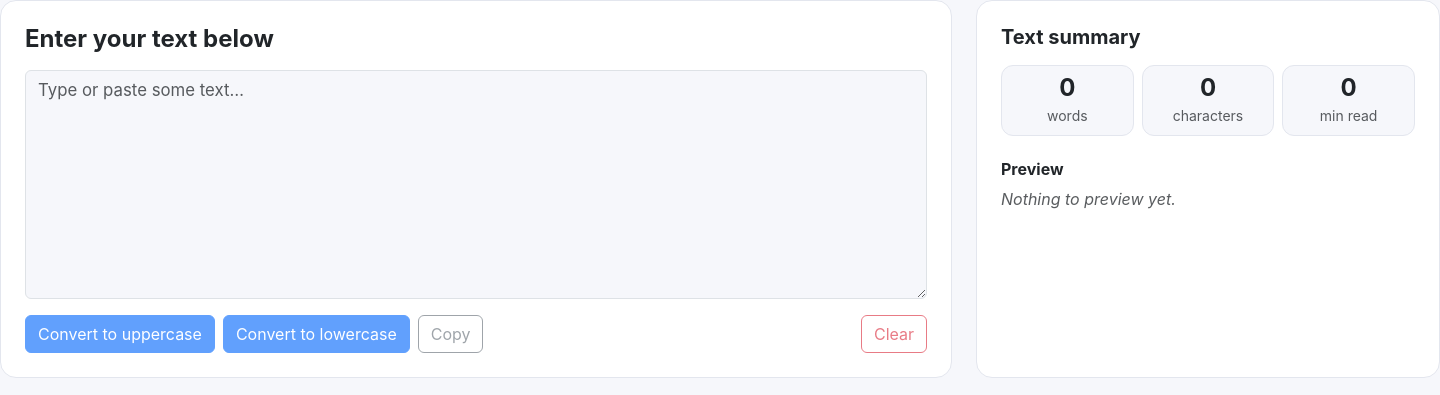
Test: transformations › clears the text
This screenshot has width=1440, height=395.
Type "something" into the text box labelled "Enter your text below". click: (476, 184)
box: [25,70,927,299]
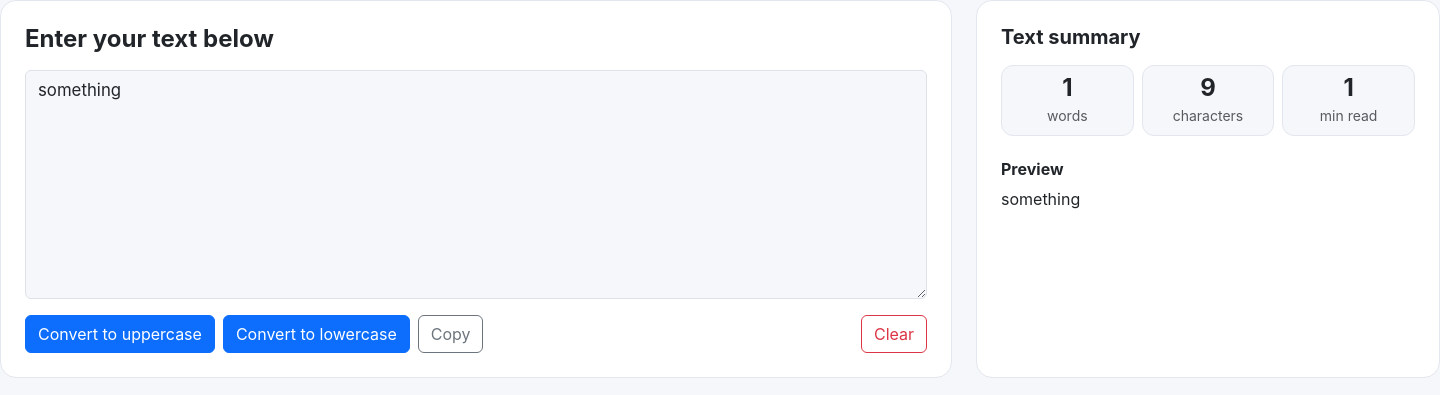
Click the button "Clear". click: (894, 334)
box: [861,315,927,353]
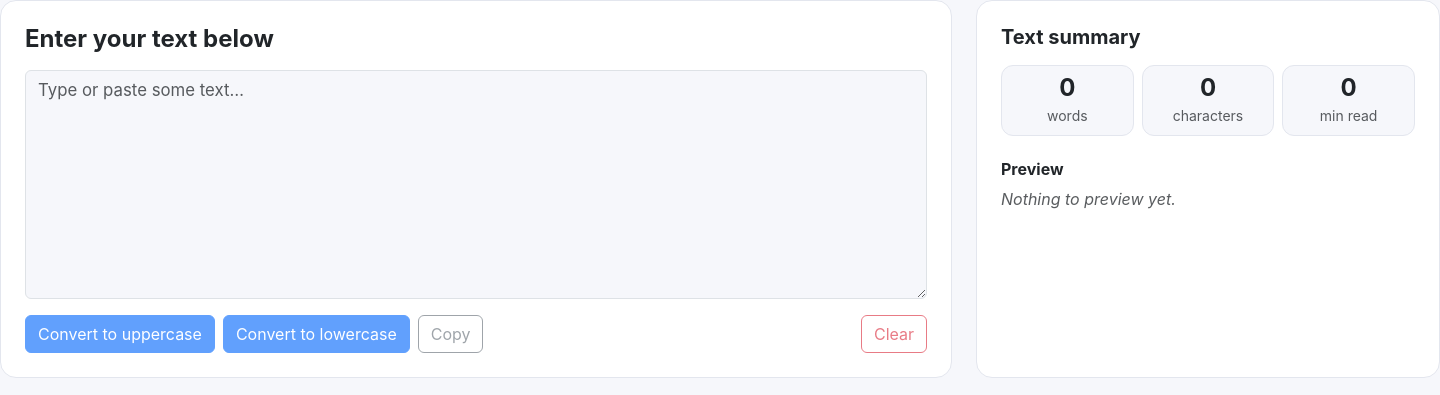
Now the text box labelled "Enter your text below" is empty, box [25,70,927,299]
